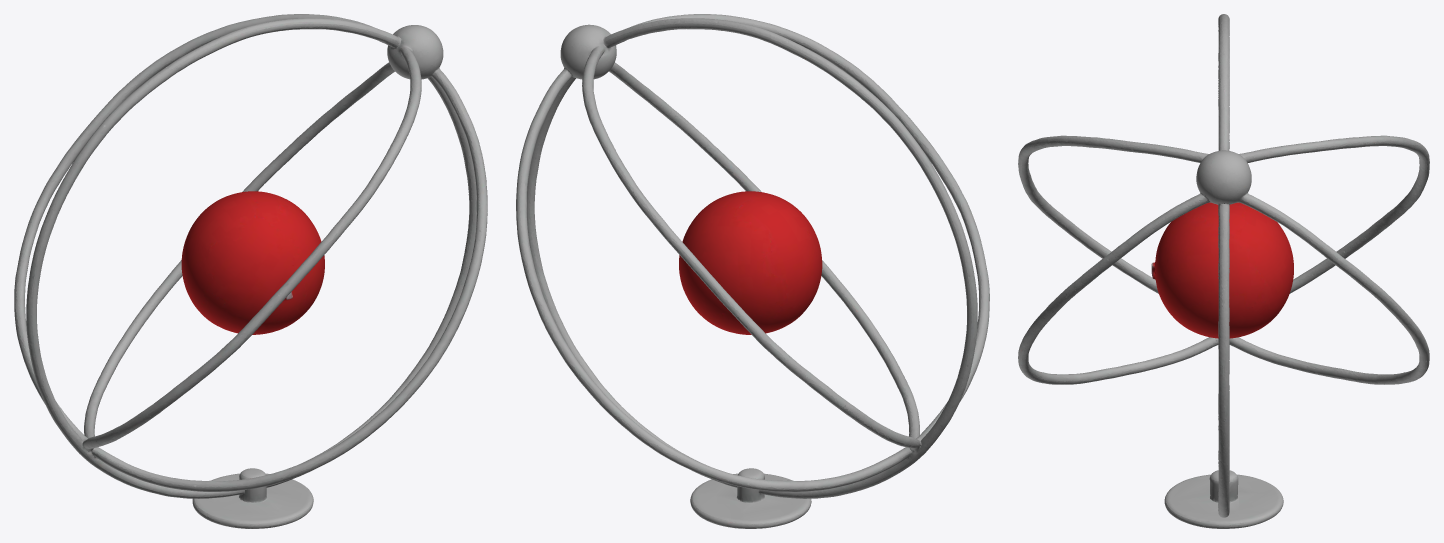
The model's file is c5_atom.glb.
3 views of the same model, side by side, from view 1: azimuth 30°, elevation 25°; view 2: azimuth 150°, elevation 25°; view 3: azimuth 270°, elevation 25° (orthographic).
Visible parts, largest first — view 1: geometry_0; view 2: geometry_0; view 3: geometry_0.
Boxes of the visible parts, x1,y1,x2,y2 form: geometry_0: (14, 14, 487, 528); geometry_0: (516, 14, 989, 528); geometry_0: (1018, 14, 1429, 528).
Bounding box in the file's own units: 0.3158 × 0.32 × 0.2536.
Materials: 1 (1 with a texture image).
